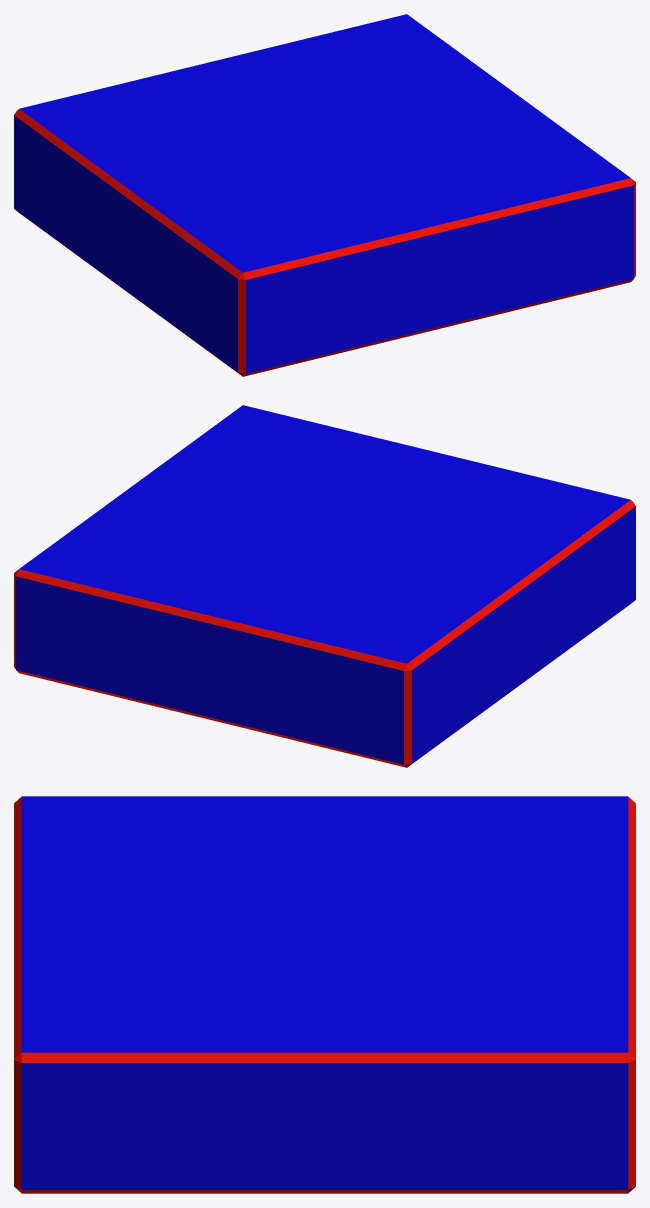
File: L1_Square_Platform_1.fbx
3 views of the same model, one above another, from view 1: azimuth 30°, elevation 25°; view 2: azimuth 150°, elevation 25°; view 3: azimuth 270°, elevation 25° (orthographic). The views are drawn at different scales.
Visible parts, largest first — view 1: L1_Square_Platform_1; view 2: L1_Square_Platform_1; view 3: L1_Square_Platform_1.
Boxes of the visible parts, <box> form: L1_Square_Platform_1: <box>14,14,635,376</box>; L1_Square_Platform_1: <box>14,405,635,767</box>; L1_Square_Platform_1: <box>14,796,635,1193</box>.
Bounding box in the file's own units: 400 × 100 × 400.
